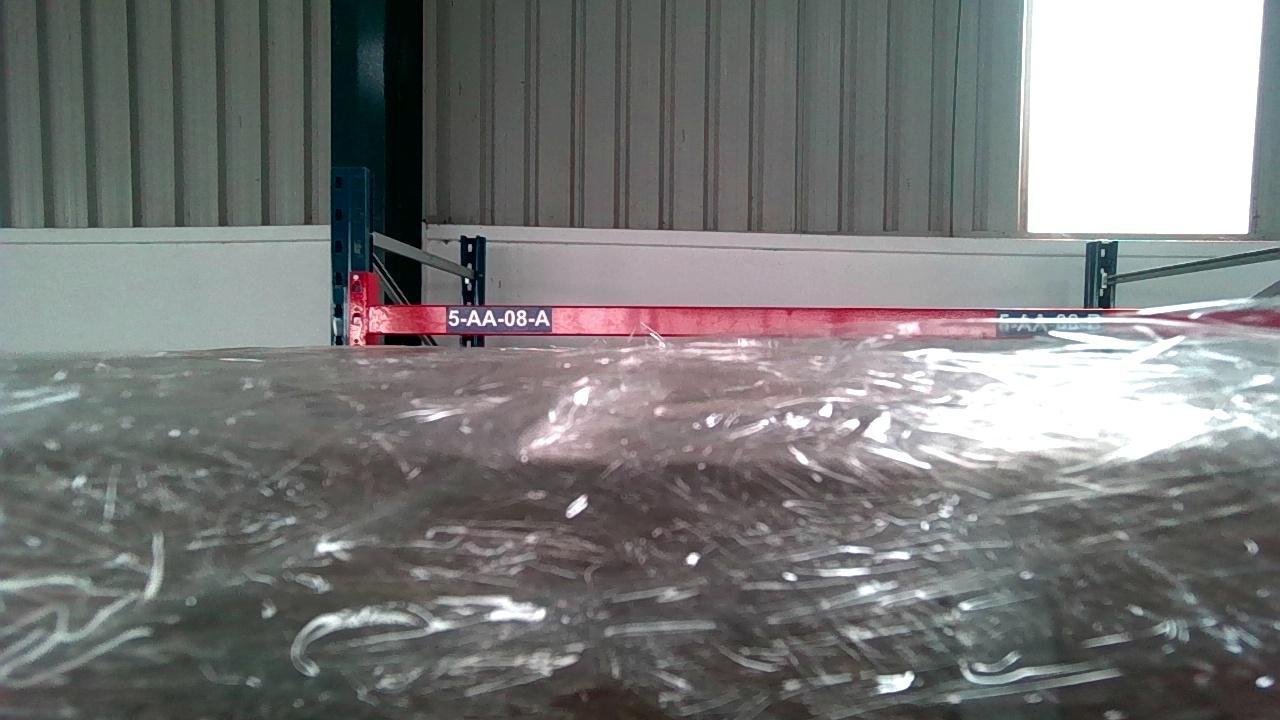h_rack: (371, 306, 944, 338)
